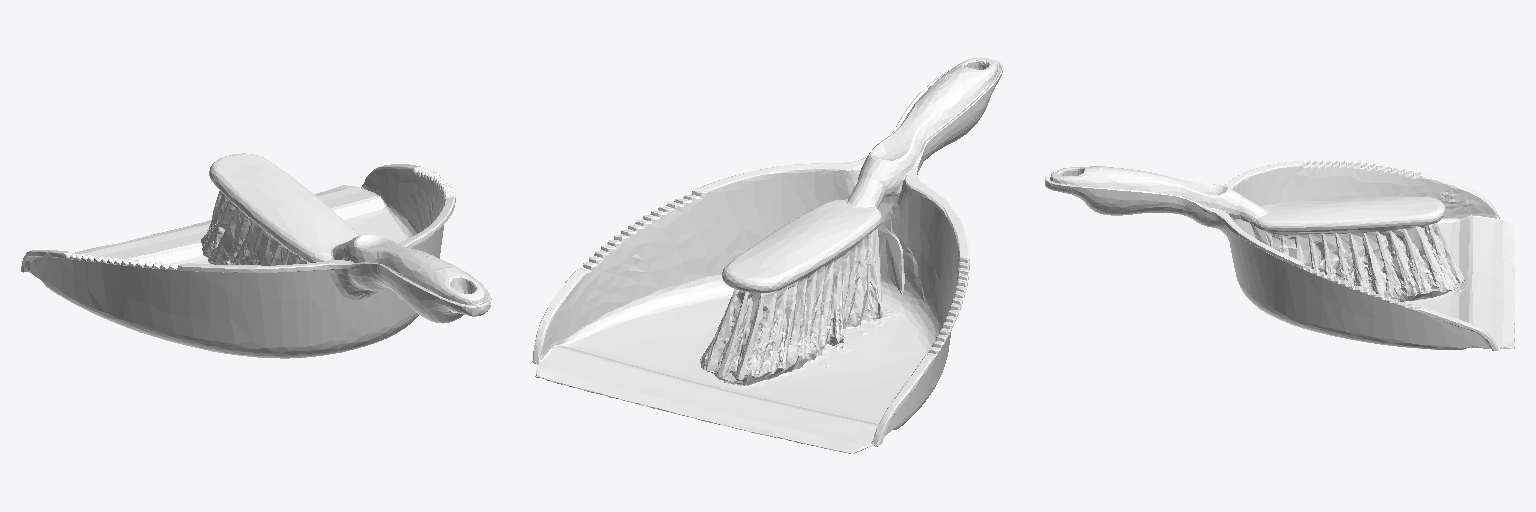
URDF robot description (model):
<?xml version="1.0" ?>
    <robot name="model">
    <link name="base">
        <inertial>
            <origin rpy="0 0 0" xyz="0 0 0"/>
            <mass value="1.0"/>
            <inertia ixx="1" ixy="0" ixz="0" iyy="1" iyz="0" izz="1"/>
        </inertial>
    <visual>
        <origin rpy="0 0 0" xyz="0 0 0"/>
        <geometry>
        <mesh filename="./meshes/model.obj" scale="1 1 1"/>
        </geometry>
        <material name="white">
        <color rgba="1 1 1 1"/>
        </material>
    </visual>
    <collision>
        <origin rpy="0 0 0" xyz="0 0 0"/>
        <geometry>
        <mesh filename="./meshes/model_vhacd.obj" scale="1 1 1"/>
        </geometry>
    </collision>
    </link>
    <link name="grasp">
        <inertial>
        <origin rpy="0 0 0" xyz="0 0 0"/>
        <mass value="0.0"/>
        <inertia ixx="1" ixy="0" ixz="0" iyy="1" iyz="0" izz="1"/>
        </inertial>
    </link>
    <joint name="base__grasp" type="fixed">
        <origin xyz="0.0 -0.08 0.0" rpy="0.0 0.0 0.0"/>
        <parent link="base"/>
        <child link="grasp"/>
    </joint>
    </robot>

--- Facts derived from the render (not from the file) ---
The picture shows the robot from 3 angles, left to right: view 1: azimuth 30°, elevation 25°; view 2: azimuth 150°, elevation 25°; view 3: azimuth 270°, elevation 25°; orthographic projection.
Robot: model — 2 links, 1 joints (1 fixed); root link base; default pose: all joints at 0.
Links seen in each view (by area): view 1: base; view 2: base; view 3: base.
Link boxes in pixels (<box>): base: <box>21,153,491,358</box>; base: <box>532,57,1002,453</box>; base: <box>1045,161,1514,350</box>.
Size in the robot's own frame: 0.2308 by 0.3307 by 0.0946 metres.
1 mesh visuals loaded from 1 distinct referenced files (1 OBJ).